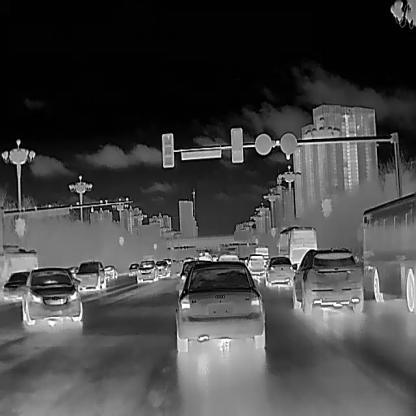car: (175, 259, 266, 353), (356, 191, 415, 313), (290, 246, 363, 316), (19, 267, 82, 325), (275, 224, 317, 270), (74, 260, 107, 290), (264, 256, 295, 286), (2, 271, 31, 299), (136, 258, 157, 283), (244, 254, 266, 276), (155, 259, 170, 277), (102, 264, 118, 280), (253, 245, 269, 258), (218, 250, 237, 260), (127, 262, 139, 276), (198, 249, 211, 260)
